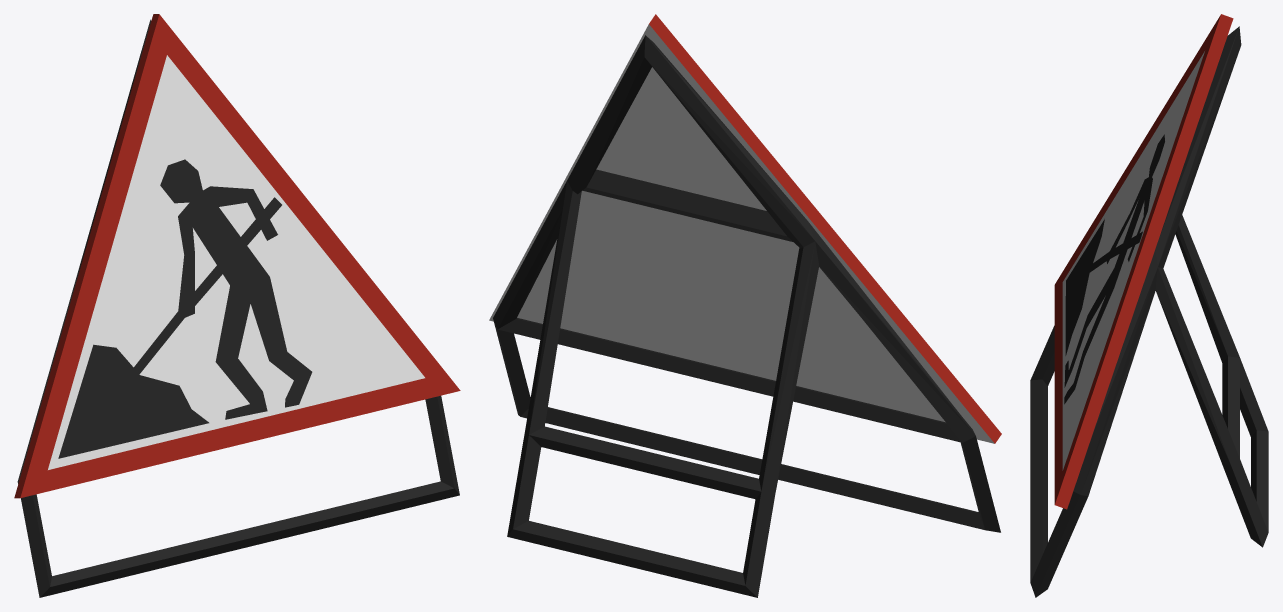
Rendered from RoadWorkSign.fbx.
3 renders of one model, left to right at view 1: azimuth 30°, elevation 25°; view 2: azimuth 150°, elevation 25°; view 3: azimuth 270°, elevation 25°, orthographic. The views are drawn at different scales.
Parts seen in each view (by area): view 1: RoadWorkSign; view 2: RoadWorkSign; view 3: RoadWorkSign.
Boxes of the visible parts, x1,y1,x2,y2 form: RoadWorkSign: (14,14,460,597); RoadWorkSign: (489,14,1001,597); RoadWorkSign: (1030,14,1268,597).
Size of the model in its own units: 88.38 by 89.5 by 40.33.
